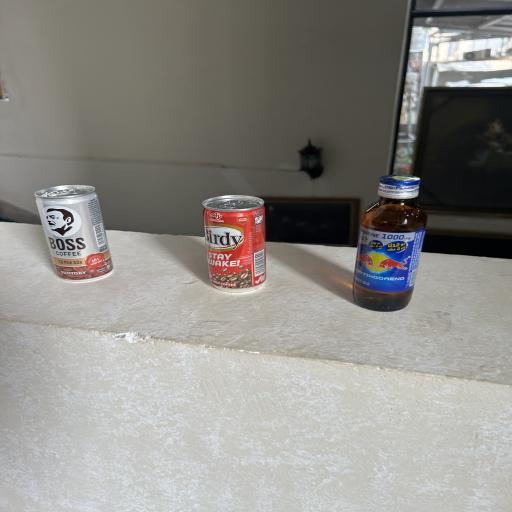birdy: (197, 191, 272, 297)
bo_huc: (351, 172, 426, 317)
boss_coffee: (33, 182, 113, 282)
